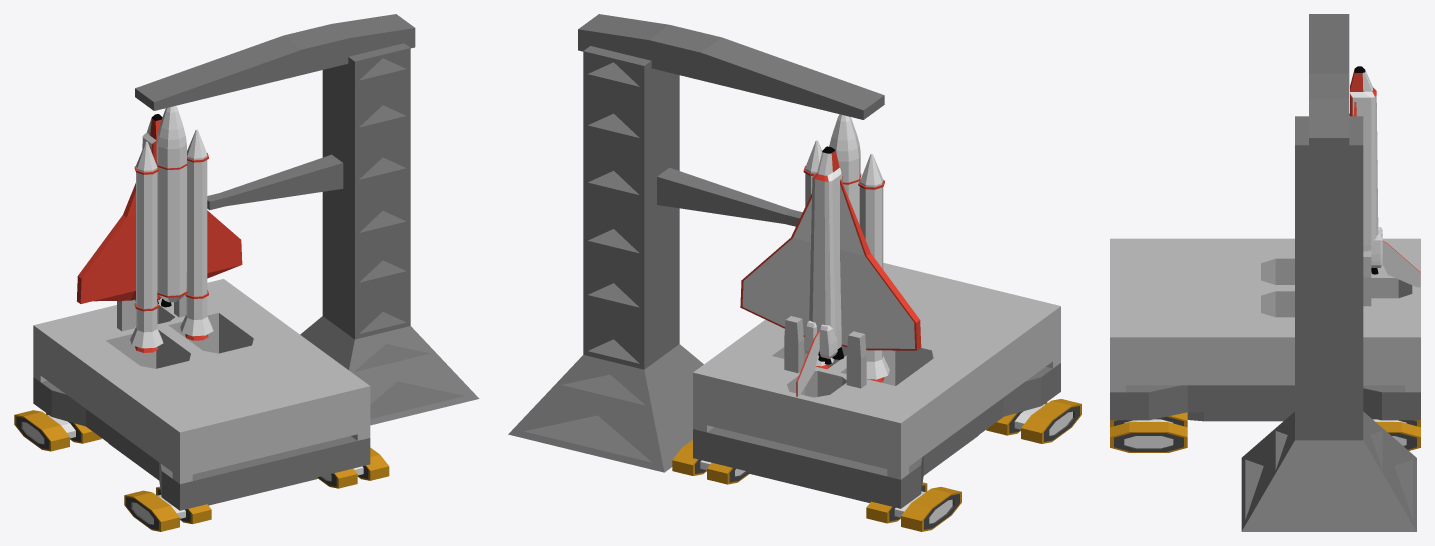
File: Shuttle Red Tower and Crawler.fbx
3 renders of one model, left to right at view 1: azimuth 30°, elevation 25°; view 2: azimuth 150°, elevation 25°; view 3: azimuth 270°, elevation 25°, orthographic. The views are drawn at different scales.
Visible parts, largest first — view 1: Shuttle Red Tower and Crawler; view 2: Shuttle Red Tower and Crawler; view 3: Shuttle Red Tower and Crawler.
Boxes of the visible parts, left/top/right/bottom form: Shuttle Red Tower and Crawler: left=14, top=14, right=479, bottom=531; Shuttle Red Tower and Crawler: left=508, top=14, right=1081, bottom=531; Shuttle Red Tower and Crawler: left=1110, top=14, right=1420, bottom=531.
Size of the model in its own units: 1200 by 1089 by 800.
